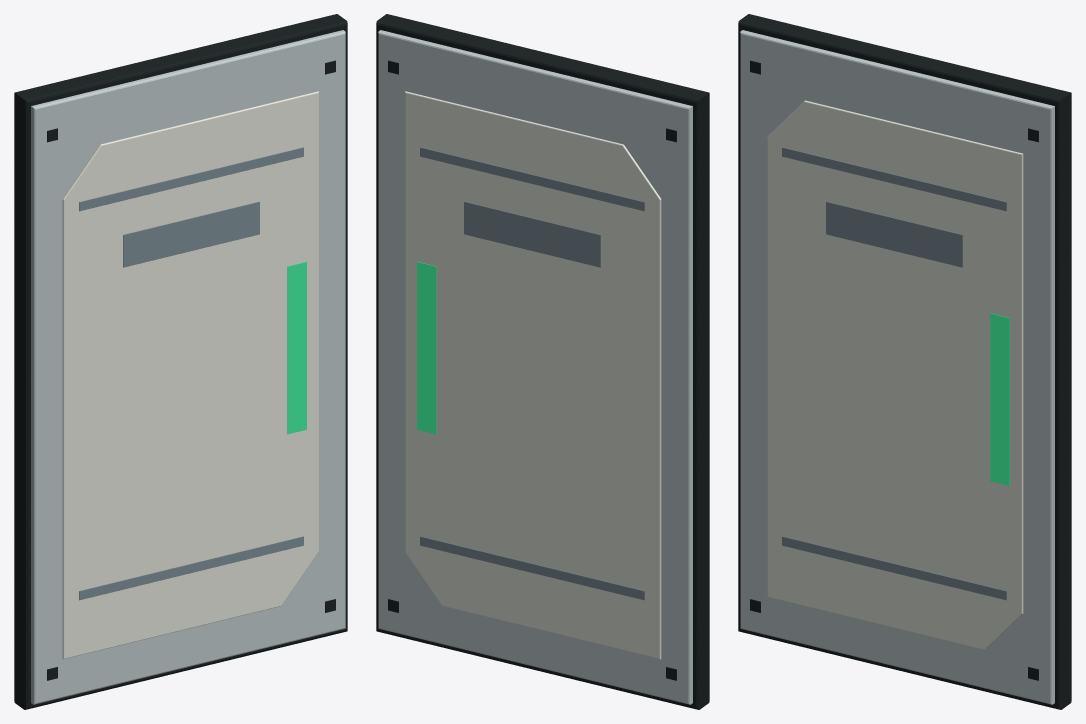
Rendered from genesis-door-leaf.glb.
3 views of the same model, side by side, from view 1: azimuth 30°, elevation 25°; view 2: azimuth 150°, elevation 25°; view 3: azimuth 330°, elevation 25° (orthographic).
Parts seen in each view (by area): view 1: door-leaf__composite, door-leaf__titanium, door-leaf__rubber, door-leaf__graphite, door-leaf__reflection; view 2: door-leaf__composite, door-leaf__titanium, door-leaf__rubber, door-leaf__graphite, door-leaf__reflection; view 3: door-leaf__composite, door-leaf__titanium, door-leaf__rubber, door-leaf__graphite, door-leaf__reflection.
Part boxes in pixels (x1=…): door-leaf__composite: x1=62, y1=91, x2=318, y2=659; door-leaf__titanium: x1=31, y1=30, x2=345, y2=704; door-leaf__rubber: x1=14, y1=14, x2=347, y2=709; door-leaf__graphite: x1=79, y1=147, x2=303, y2=600; door-leaf__reflection: x1=287, y1=261, x2=306, y2=434; door-leaf__composite: x1=405, y1=91, x2=661, y2=659; door-leaf__titanium: x1=378, y1=30, x2=692, y2=704; door-leaf__rubber: x1=376, y1=14, x2=709, y2=709; door-leaf__graphite: x1=420, y1=147, x2=644, y2=600; door-leaf__reflection: x1=417, y1=261, x2=436, y2=434; door-leaf__composite: x1=767, y1=100, x2=1023, y2=649; door-leaf__titanium: x1=740, y1=30, x2=1054, y2=704; door-leaf__rubber: x1=738, y1=14, x2=1071, y2=709; door-leaf__graphite: x1=782, y1=147, x2=1006, y2=600; door-leaf__reflection: x1=990, y1=313, x2=1009, y2=485.
Bounding box in the file's own units: 1.65 × 2.98 × 0.19.
5 materials, 1 textured.
